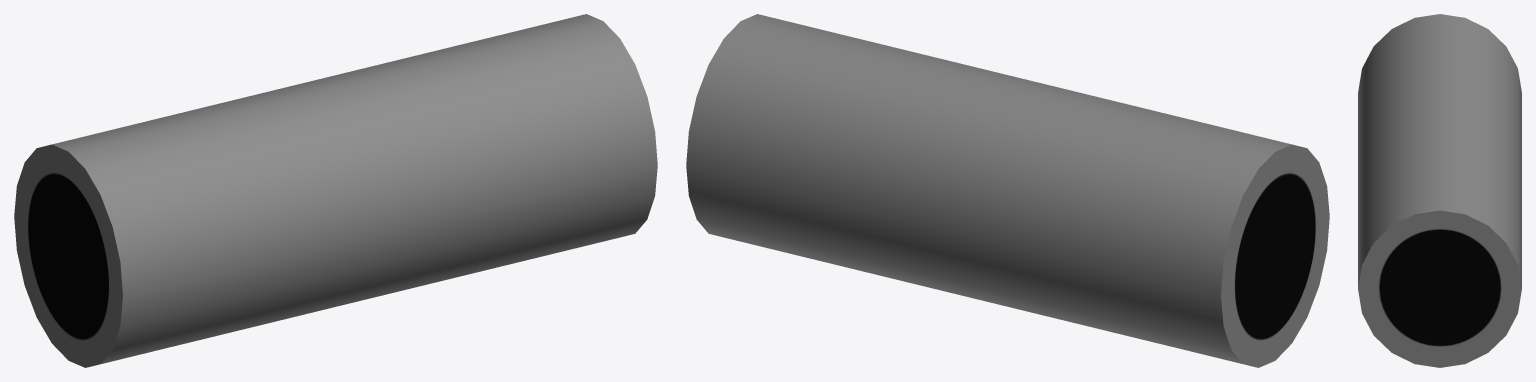
Rendered from pipe_straight.fbx.
The picture shows the model from 3 angles, left to right: view 1: azimuth 30°, elevation 25°; view 2: azimuth 150°, elevation 25°; view 3: azimuth 270°, elevation 25°; orthographic projection. The views are drawn at different scales.
Parts seen in each view (by area): view 1: pipe_no_Ends; view 2: pipe_no_Ends; view 3: pipe_no_Ends.
Part boxes in pixels (box(x1,y1,x2,y2)): pipe_no_Ends: box(14, 14, 657, 367); pipe_no_Ends: box(686, 14, 1329, 367); pipe_no_Ends: box(1358, 14, 1521, 367).
Size of the model in its own units: 8.02 by 3 by 2.83.
